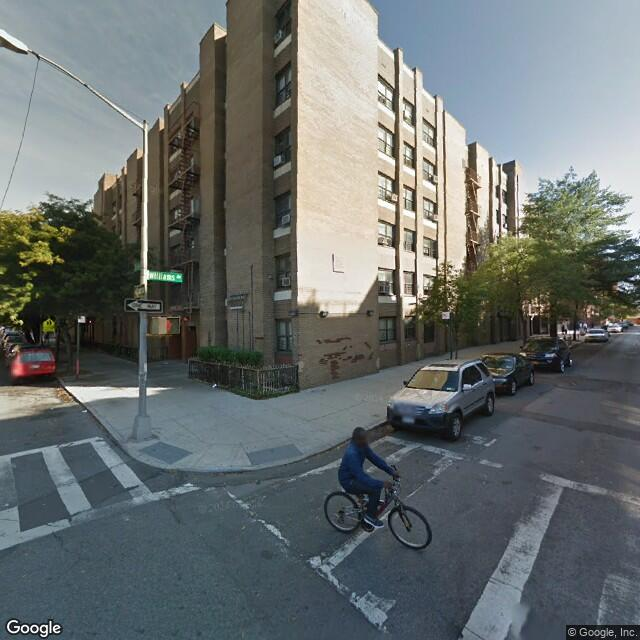litter: (208, 380, 219, 388), (301, 457, 312, 462), (159, 357, 168, 363), (80, 407, 87, 413), (48, 404, 54, 410), (4, 499, 9, 504), (333, 445, 338, 446)
